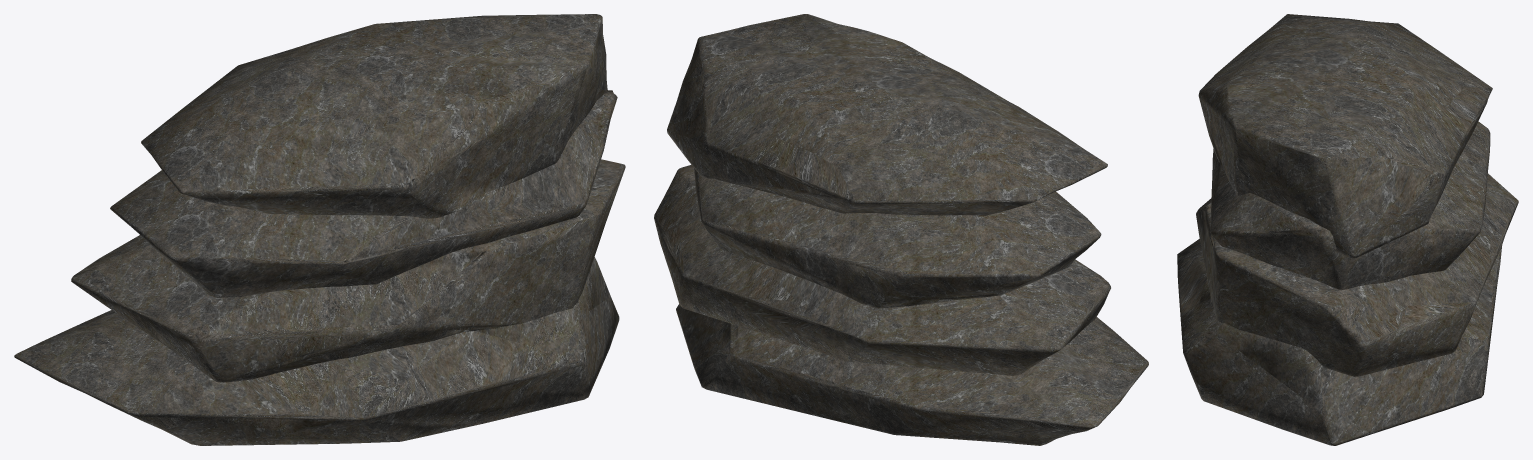
The model's file is stratified_outcrop_LOD0.fbx.
3 renders of one model, left to right at view 1: azimuth 30°, elevation 25°; view 2: azimuth 150°, elevation 25°; view 3: azimuth 270°, elevation 25°, orthographic. The views are drawn at different scales.
Parts seen in each view (by area): view 1: stratified_outcrop_LOD0; view 2: stratified_outcrop_LOD0; view 3: stratified_outcrop_LOD0.
Boxes of the visible parts, x1,y1,x2,y2 form: stratified_outcrop_LOD0: [14, 14, 625, 445]; stratified_outcrop_LOD0: [654, 14, 1148, 445]; stratified_outcrop_LOD0: [1177, 14, 1518, 445].
Size of the model in its own units: 580 by 320 by 350.
